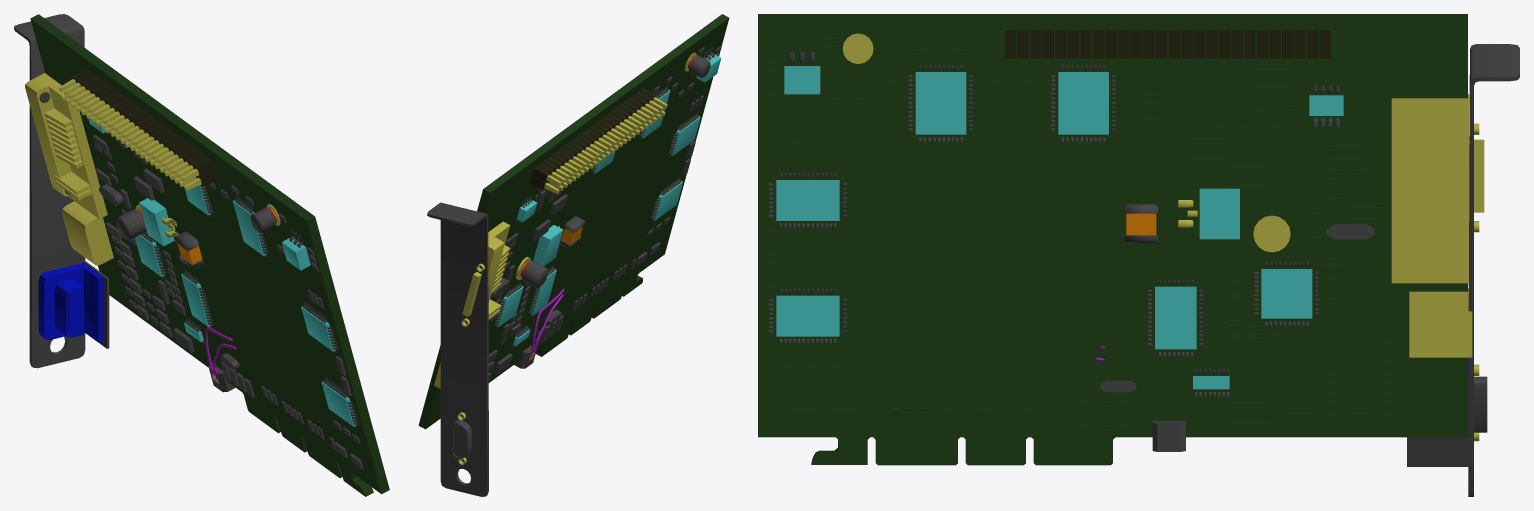
Rendered from SM_Motherboard.fbx.
3 views of the same model, side by side, from view 1: azimuth 30°, elevation 25°; view 2: azimuth 150°, elevation 25°; view 3: azimuth 270°, elevation 25° (orthographic). The views are drawn at different scales.
Parts seen in each view (by area): view 1: Plane016; view 2: Plane016; view 3: Plane016.
Part boxes in pixels (<box>): Plane016: <box>14,14,389,496</box>; Plane016: <box>418,14,729,496</box>; Plane016: <box>758,14,1519,496</box>.
Size of the model in its own units: 0.9399 by 2.75 by 4.18.
